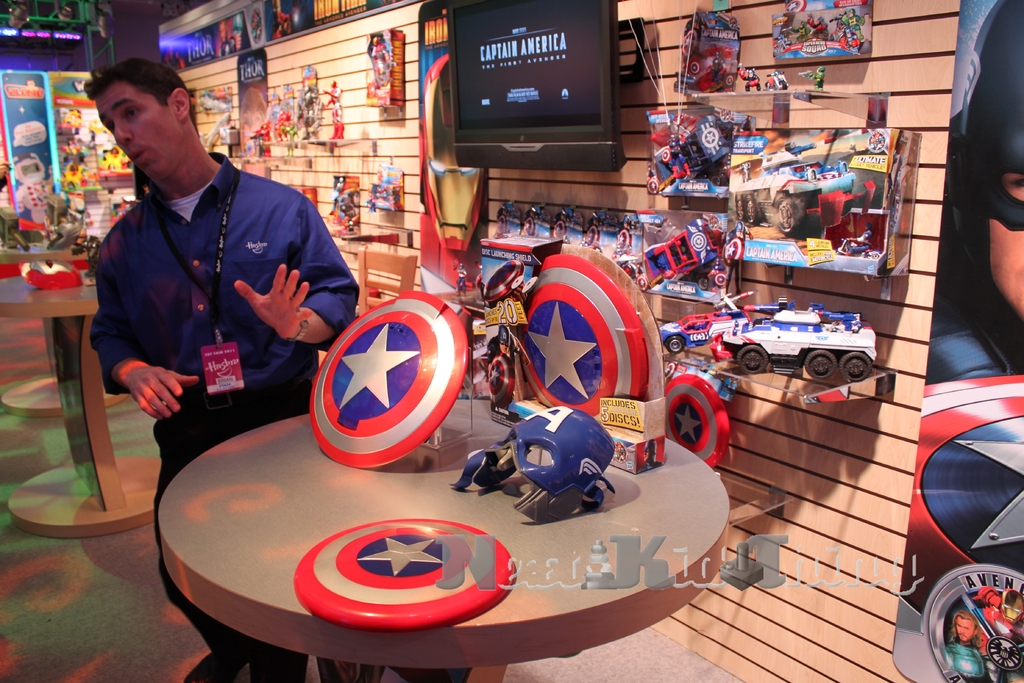Person: (83, 56, 360, 682)
